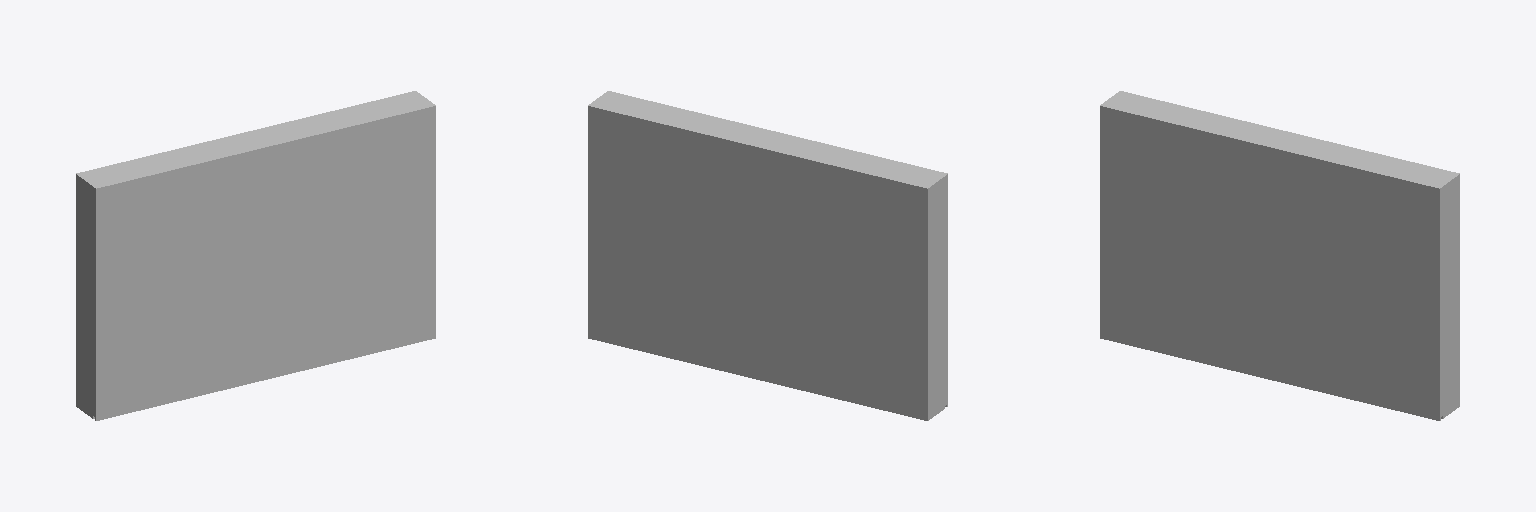
File: scina drewiana.obj
3 views of the same model, side by side, from view 1: azimuth 30°, elevation 25°; view 2: azimuth 150°, elevation 25°; view 3: azimuth 330°, elevation 25° (orthographic).
Parts seen in each view (by area): view 1: object 1; view 2: object 1; view 3: object 1.
Part boxes in pixels (x1,y1,x2,y2): object 1: (76, 91, 435, 420); object 1: (588, 91, 947, 420); object 1: (1100, 91, 1459, 420).
Size of the model in its own units: 12.4 by 8.1 by 1.3.